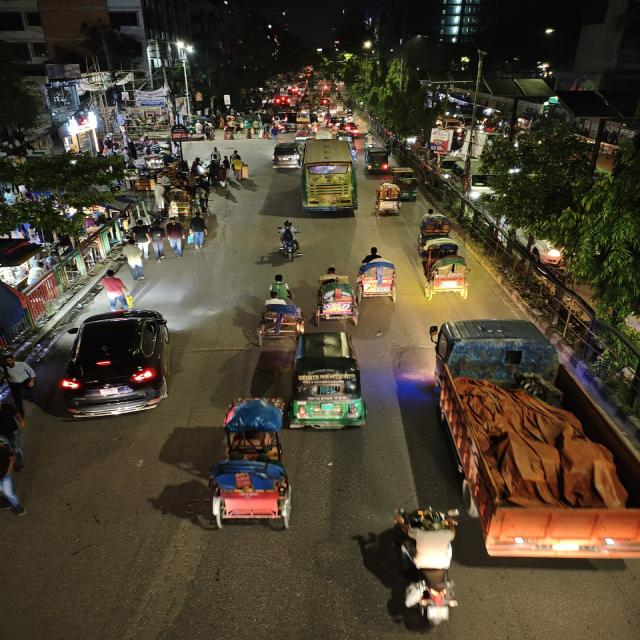bus: (298, 139, 360, 219)
car: (59, 306, 178, 423), (440, 162, 492, 199), (270, 141, 304, 171), (334, 122, 358, 136)
cng: (286, 329, 372, 435), (364, 147, 394, 175)
motorcycle: (389, 502, 464, 628), (270, 218, 304, 261)
pedestrian: (0, 352, 38, 406), (94, 268, 132, 308), (119, 238, 146, 282), (162, 217, 186, 259), (144, 220, 167, 262), (130, 219, 153, 257), (186, 214, 208, 251), (193, 178, 216, 212), (204, 208, 223, 238), (216, 158, 231, 185), (192, 155, 208, 179), (209, 145, 222, 167), (201, 123, 216, 141), (222, 125, 236, 142), (266, 122, 279, 140), (241, 122, 254, 140), (263, 124, 274, 140)
pickup_van: (431, 316, 638, 562)
rickshaw: (199, 394, 298, 534), (286, 329, 372, 435), (415, 238, 475, 304), (311, 268, 359, 326), (252, 296, 303, 346), (356, 250, 402, 304), (415, 210, 454, 246), (373, 180, 404, 218), (392, 170, 421, 202), (292, 125, 314, 141), (303, 123, 320, 139)
